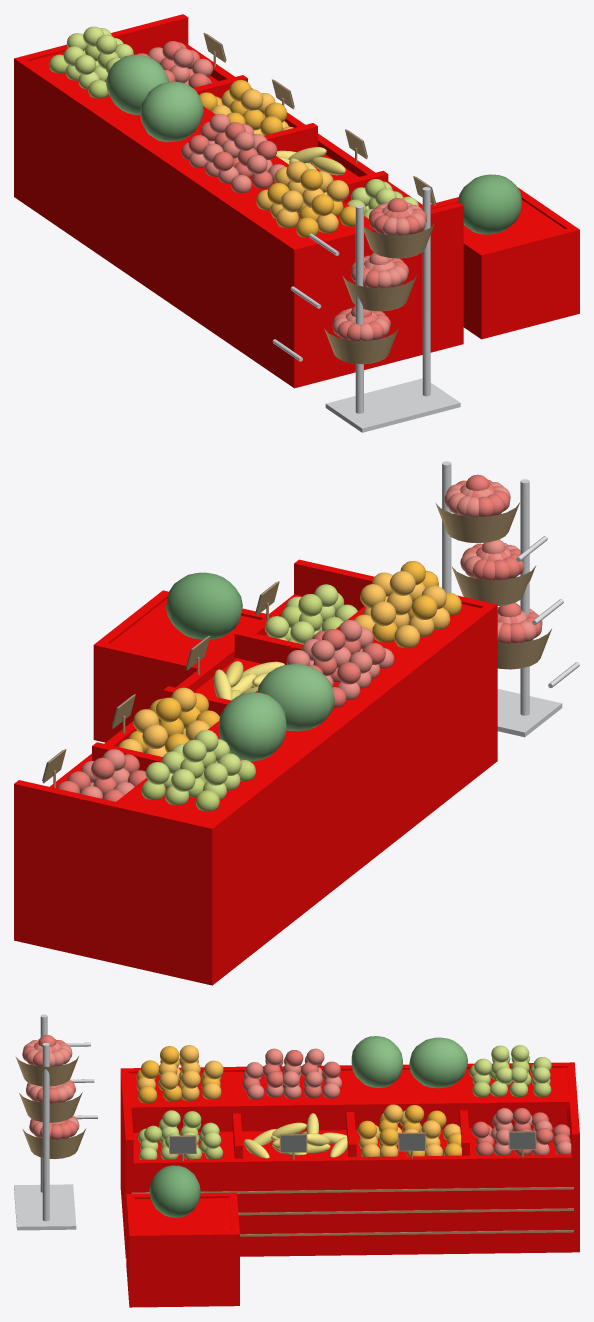
Rendered from fruit_display_rack_red.glb.
3 views of the same model, one above another, from view 1: azimuth 30°, elevation 25°; view 2: azimuth 150°, elevation 25°; view 3: azimuth 270°, elevation 25° (orthographic). The views are drawn at different scales.
Parts seen in each view (by area): view 1: wall_back, Fruit, wall_left, wmbin_left, Signs_Baskets, bed_back, stand_foot, wall_right, wmbin_back, wmbin_bed, rim_front, wmbin_front (+2 smaller); view 2: wall_back, Fruit, wall_right, Signs_Baskets, bed_back, wmbin_right, wmbin_bed, wall_left, stand_foot, rim_front, wmbin_front, divider_0 (+2 smaller); view 3: Fruit, wall_front, bed_back, wmbin_front, wall_back, Signs_Baskets, rim_front, wmbin_bed, stand_foot, bed_front, sign (×4), wall_left (+9 smaller).
Part boxes in pixels (x1=…): wall_back: x1=14, y1=56, x2=302, y2=388; Fruit: x1=49, y1=26, x2=521, y2=340; wall_left: x1=289, y1=202, x2=463, y2=387; wmbin_left: x1=476, y1=228, x2=579, y2=339; Signs_Baskets: x1=213, y1=51, x2=435, y2=413; bed_back: x1=29, y1=52, x2=369, y2=244; stand_foot: x1=325, y1=378, x2=460, y2=432; wall_right: x1=14, y1=14, x2=188, y2=198; wmbin_back: x1=463, y1=236, x2=489, y2=339; wmbin_bed: x1=463, y1=200, x2=579, y2=260; rim_front: x1=185, y1=45, x2=462, y2=239; wmbin_front: x1=517, y1=187, x2=579, y2=315; wall_back: x1=203, y1=602, x2=497, y2=984; Fruit: x1=57, y1=474, x2=542, y2=811; wall_right: x1=14, y1=780, x2=217, y2=985; Signs_Baskets: x1=53, y1=461, x2=579, y2=787; bed_back: x1=116, y1=604, x2=480, y2=822; wmbin_right: x1=93, y1=641, x2=203, y2=742; wmbin_bed: x1=93, y1=598, x2=260, y2=677; wall_left: x1=294, y1=559, x2=497, y2=764; stand_foot: x1=497, y1=689, x2=562, y2=737; rim_front: x1=14, y1=594, x2=302, y2=823; wmbin_front: x1=93, y1=590, x2=168, y2=741; divider_0: x1=234, y1=630, x2=302, y2=664; Fruit: x1=22, y1=1035, x2=571, y2=1217; wall_front: x1=126, y1=1163, x2=579, y2=1257; bed_back: x1=129, y1=1067, x2=569, y2=1114; wmbin_front: x1=129, y1=1231, x2=239, y2=1307; wall_back: x1=120, y1=1062, x2=574, y2=1132; Signs_Baskets: x1=15, y1=1014, x2=523, y2=1221; rim_front: x1=127, y1=1154, x2=573, y2=1168; wmbin_bed: x1=126, y1=1198, x2=239, y2=1244; stand_foot: x1=14, y1=1184, x2=76, y2=1230; bed_front: x1=133, y1=1127, x2=570, y2=1159; sign (×4): x1=170, y1=1132, x2=535, y2=1153; wall_left: x1=120, y1=1068, x2=133, y2=1257.
Bounding box in the file's own units: 1.63 × 1 × 2.86.
